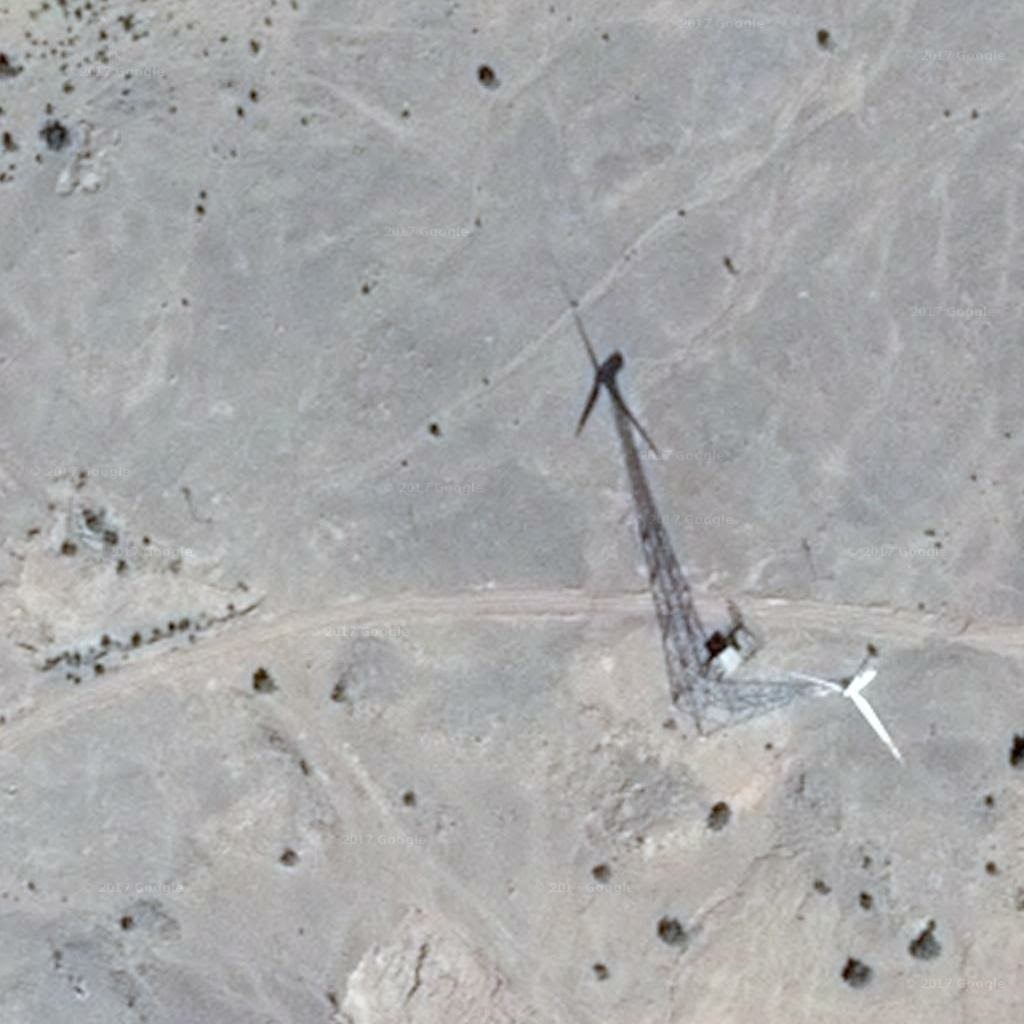Windmill: (553, 271, 710, 631)
